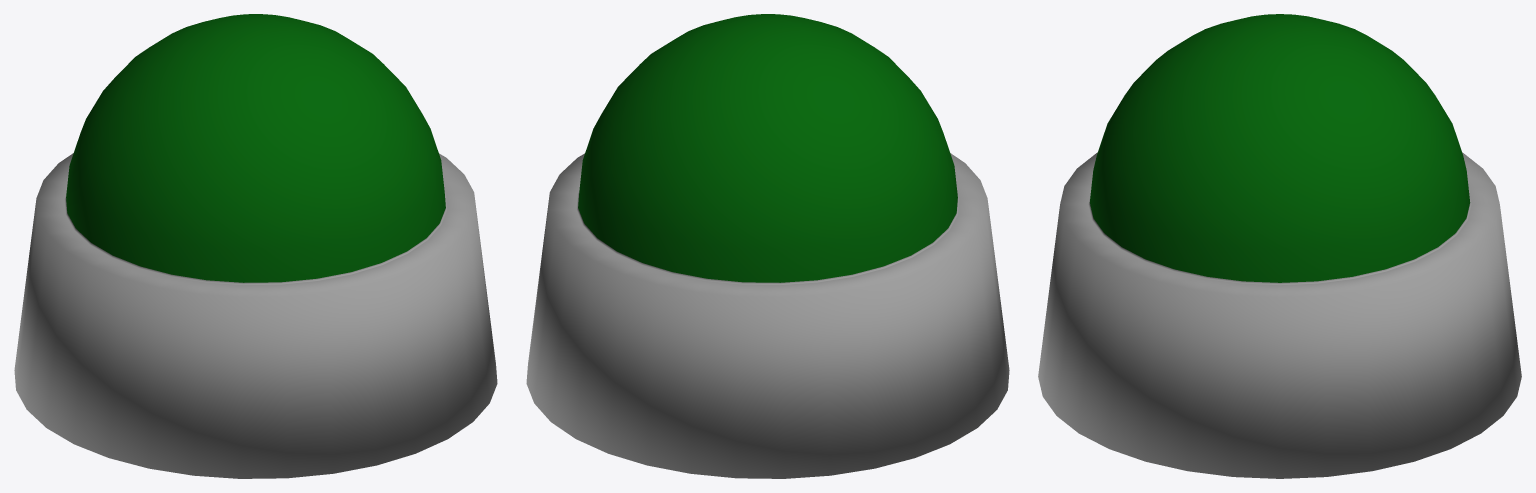
The model's file is LED.fbx.
The picture shows the model from 3 angles, left to right: view 1: azimuth 30°, elevation 25°; view 2: azimuth 150°, elevation 25°; view 3: azimuth 270°, elevation 25°; orthographic projection.
Parts seen in each view (by area): view 1: Sphere; view 2: Sphere; view 3: Sphere.
Part boxes in pixels (x1,y1,x2,y2): Sphere: (14, 14, 497, 478); Sphere: (526, 14, 1009, 478); Sphere: (1038, 14, 1521, 478).
Bounding box in the file's own units: 254 × 200 × 254.
